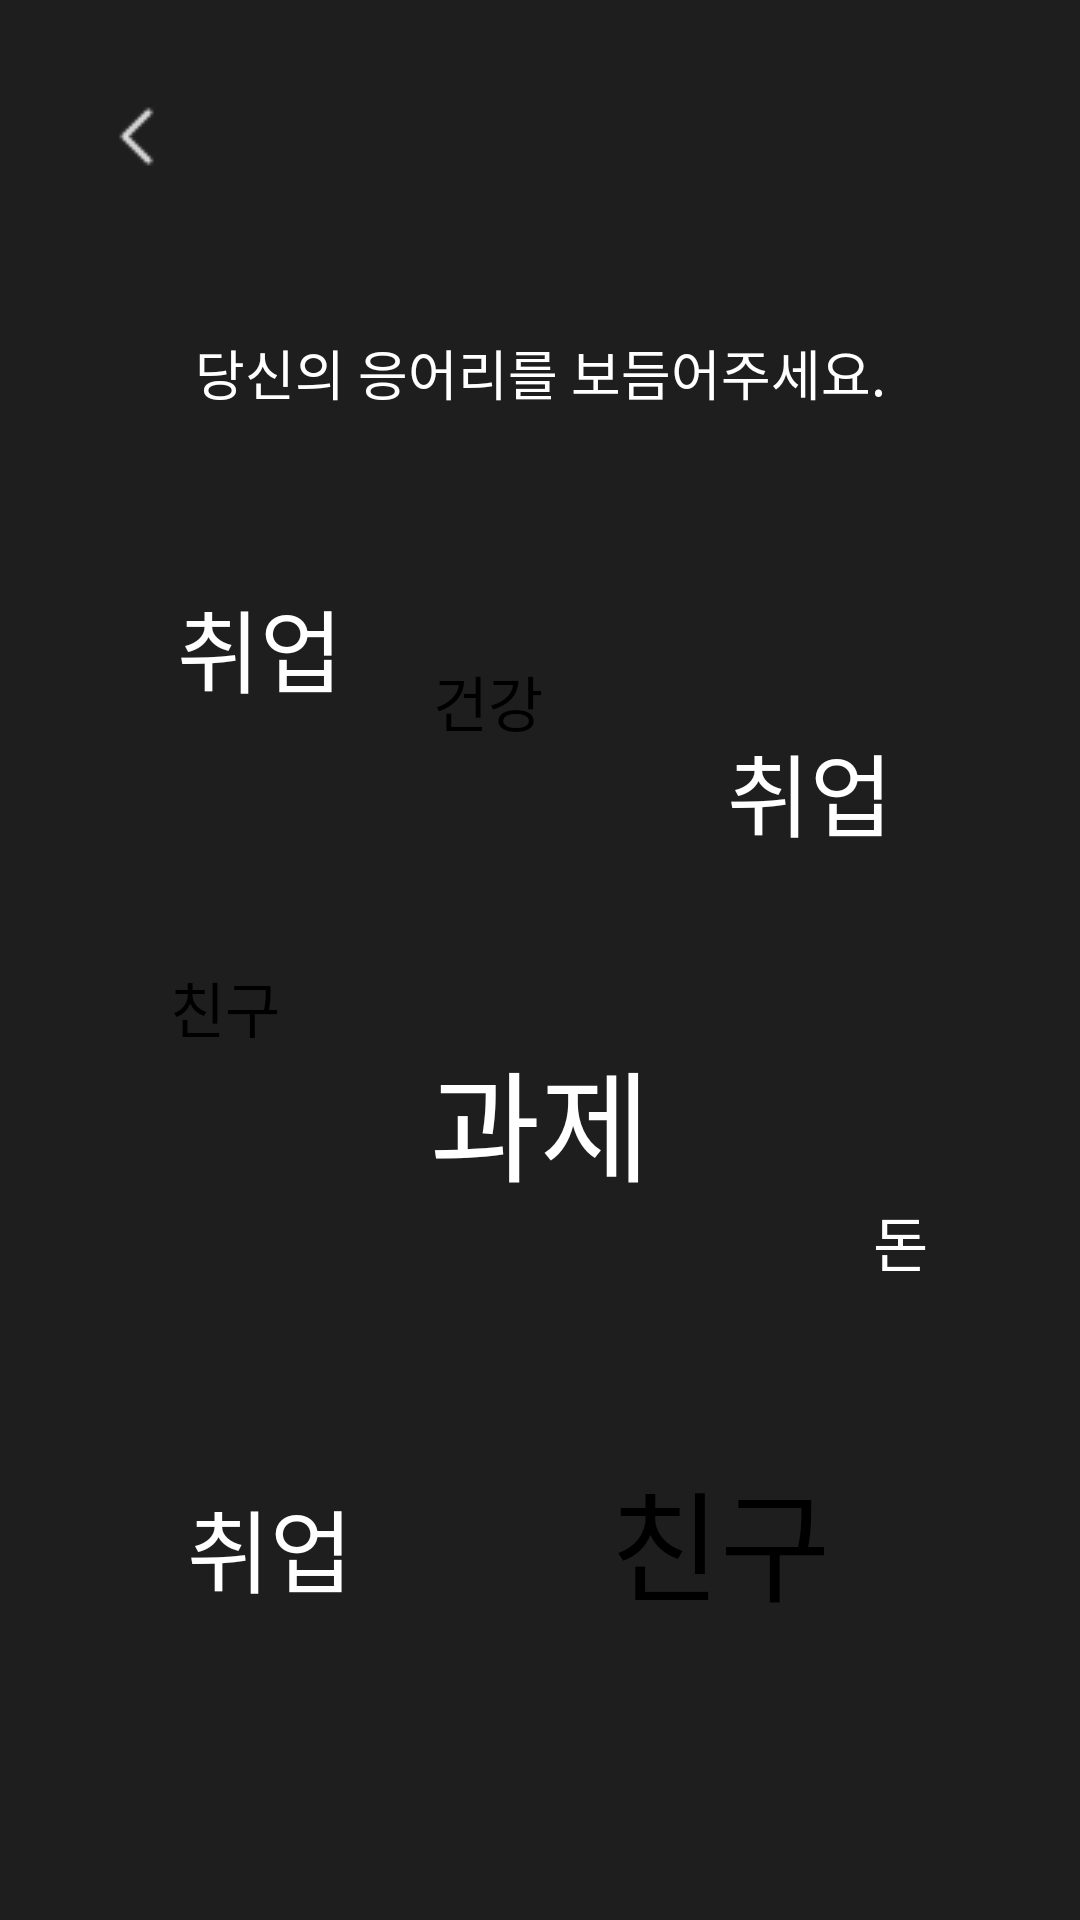

Where icons sit on this 1080w x 1920h app screen, as (x1, y1, x2, y2):
back: (119, 107, 154, 166)
